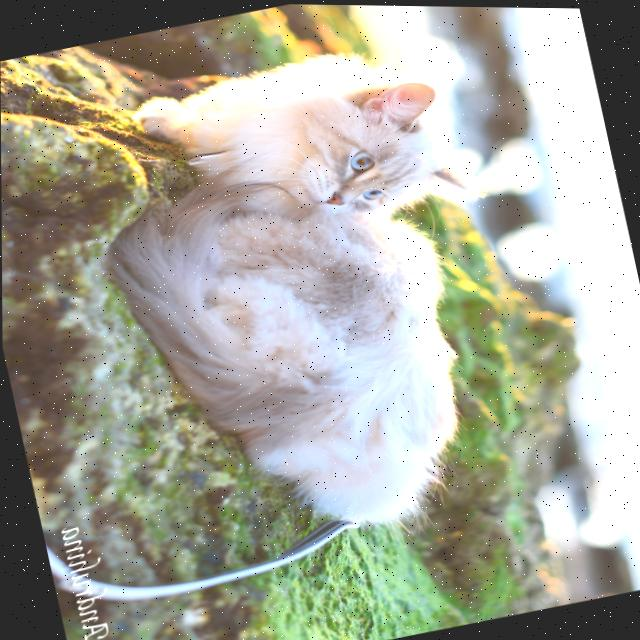Neva Masquerade: (73, 21, 551, 571)
